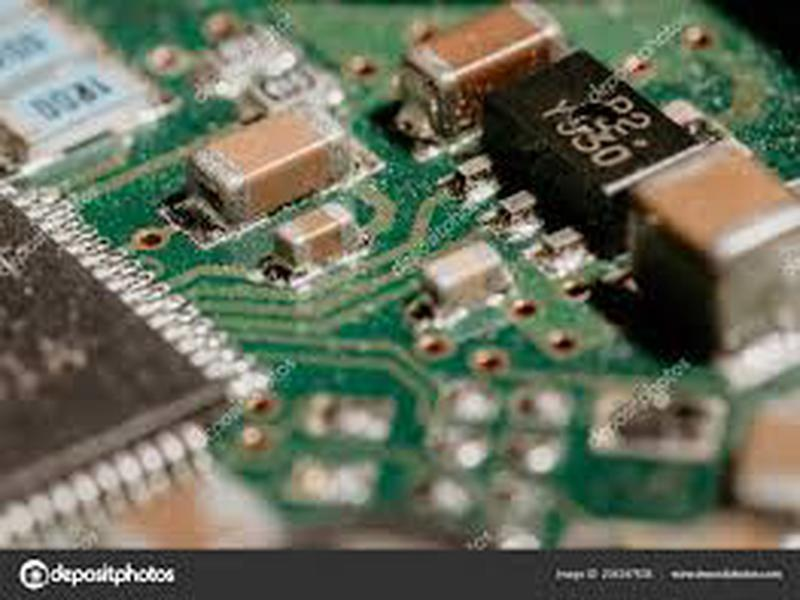SMD capacitor: (187, 101, 362, 219), (413, 2, 561, 124), (423, 239, 508, 307), (273, 202, 362, 264)
